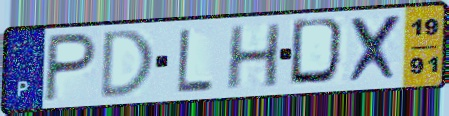D: (286, 15, 351, 88), (97, 27, 157, 102)
H: (223, 21, 283, 92)
L: (175, 26, 215, 94)
P: (41, 30, 100, 104)
X: (347, 13, 405, 87)
